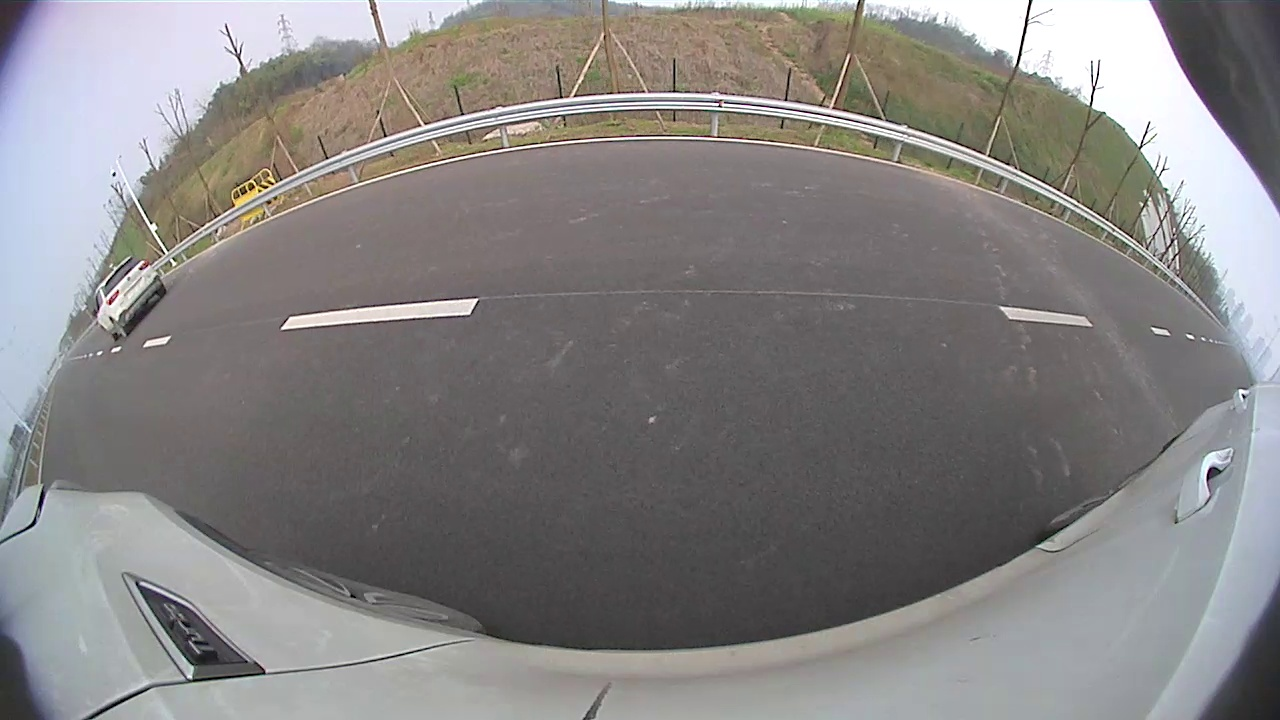car: (93, 254, 166, 337)
rear: (108, 316, 128, 340)
